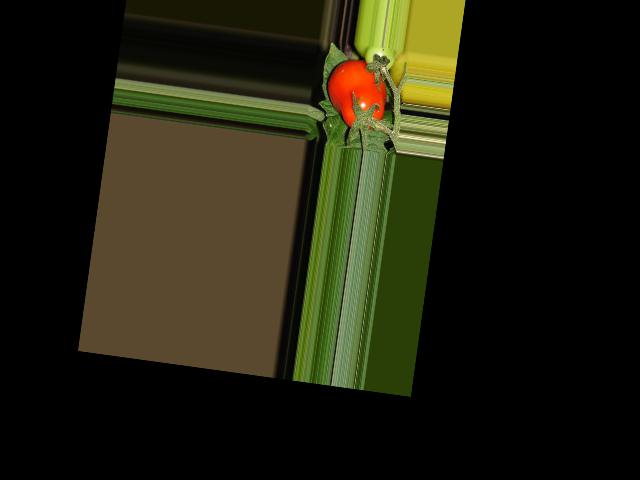tomato: (322, 56, 390, 132)
